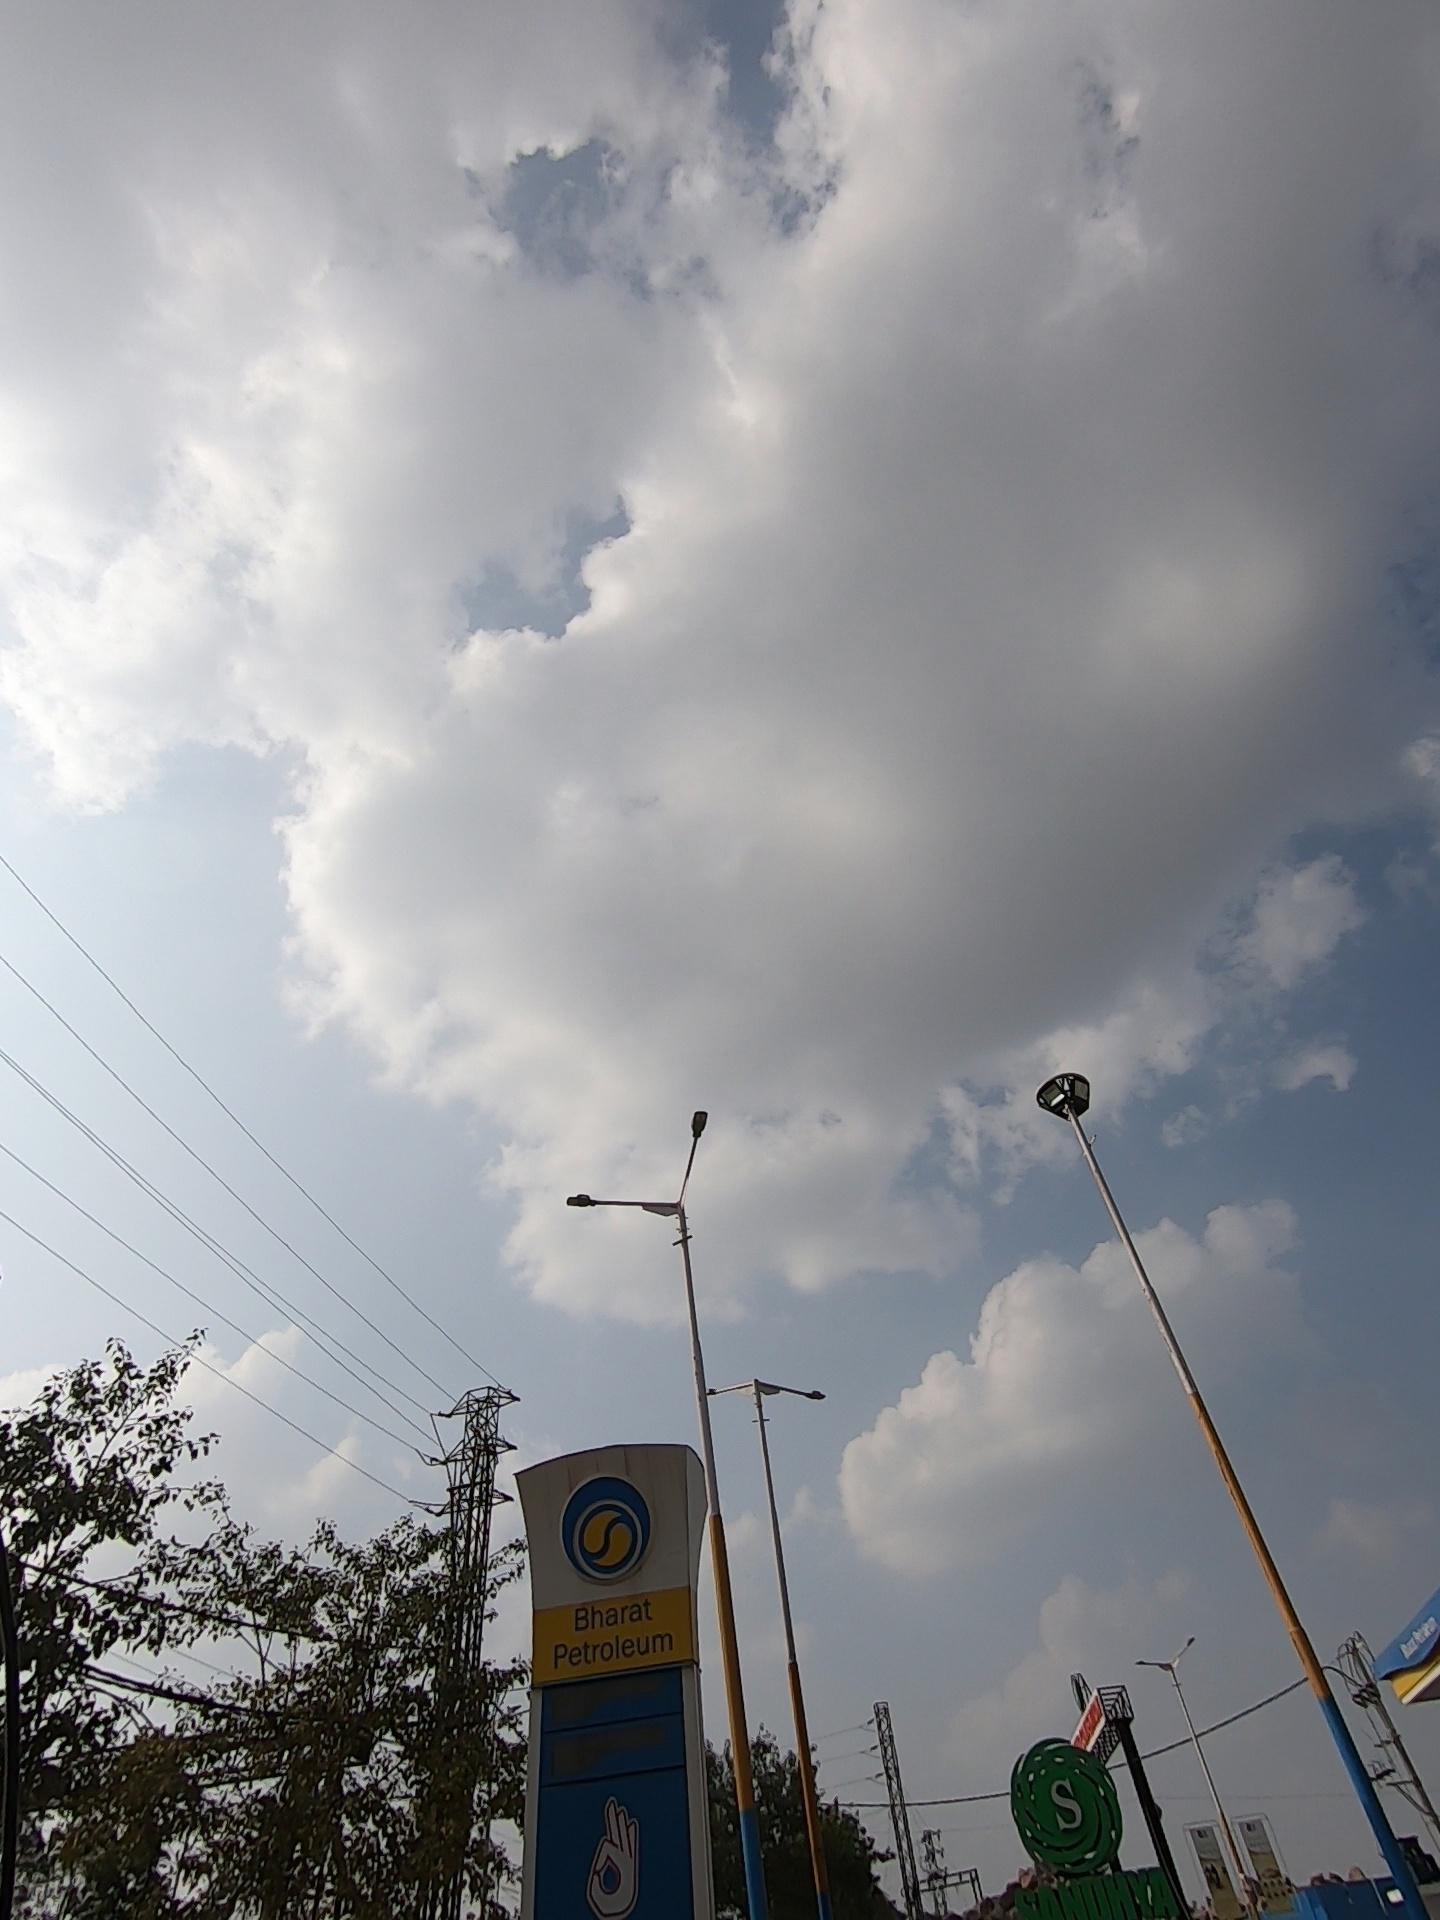off: (534, 1114, 861, 1285), (697, 1347, 902, 1463), (1041, 1051, 1147, 1157)
